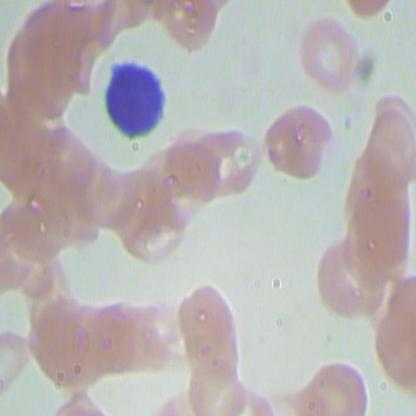RBC: (27, 295, 105, 393), (346, 178, 414, 282), (175, 280, 242, 384), (310, 233, 390, 318), (187, 120, 259, 201), (265, 102, 334, 183), (293, 16, 364, 94), (3, 189, 74, 260), (281, 360, 372, 415), (117, 297, 176, 376), (362, 108, 415, 185), (183, 354, 245, 415), (88, 161, 142, 230)
WBC: (94, 53, 170, 144)
